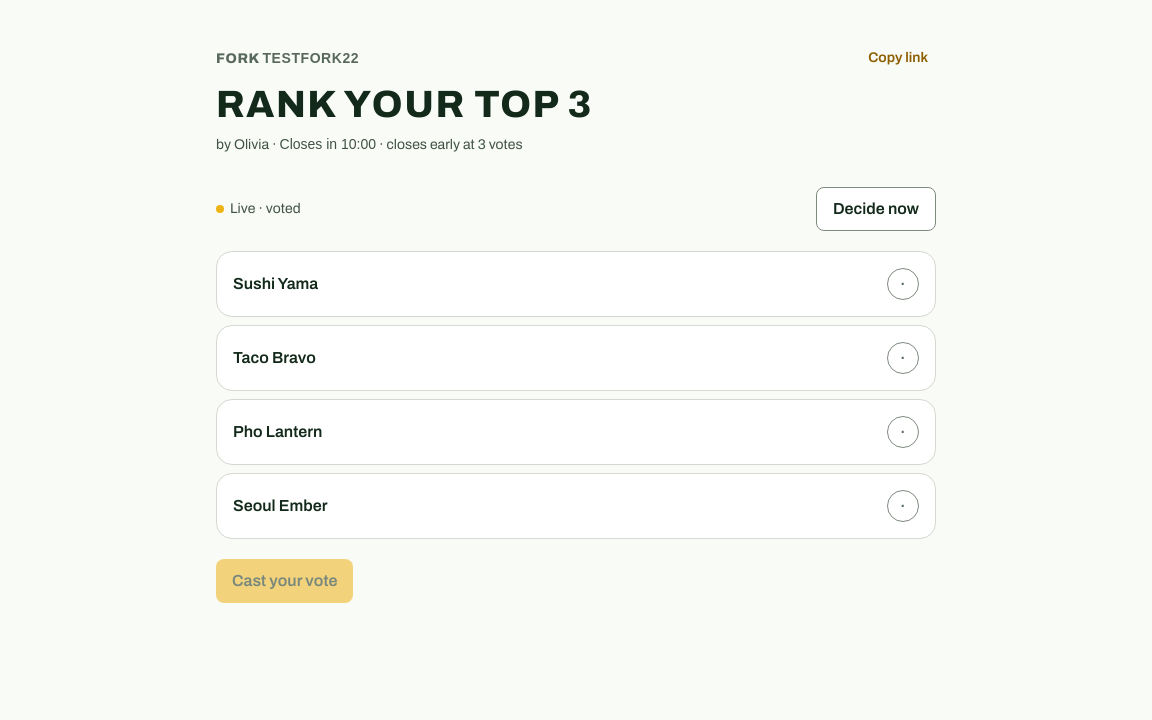
ForkRoom — decide now (organizer ends the vote early) › surfaces a failed decide inside the dialog and stays open
What coordinates should you click on to do the following:
click the button "Decide now"
I would click on:
 (876, 209)
Its box is [816, 187, 936, 231].
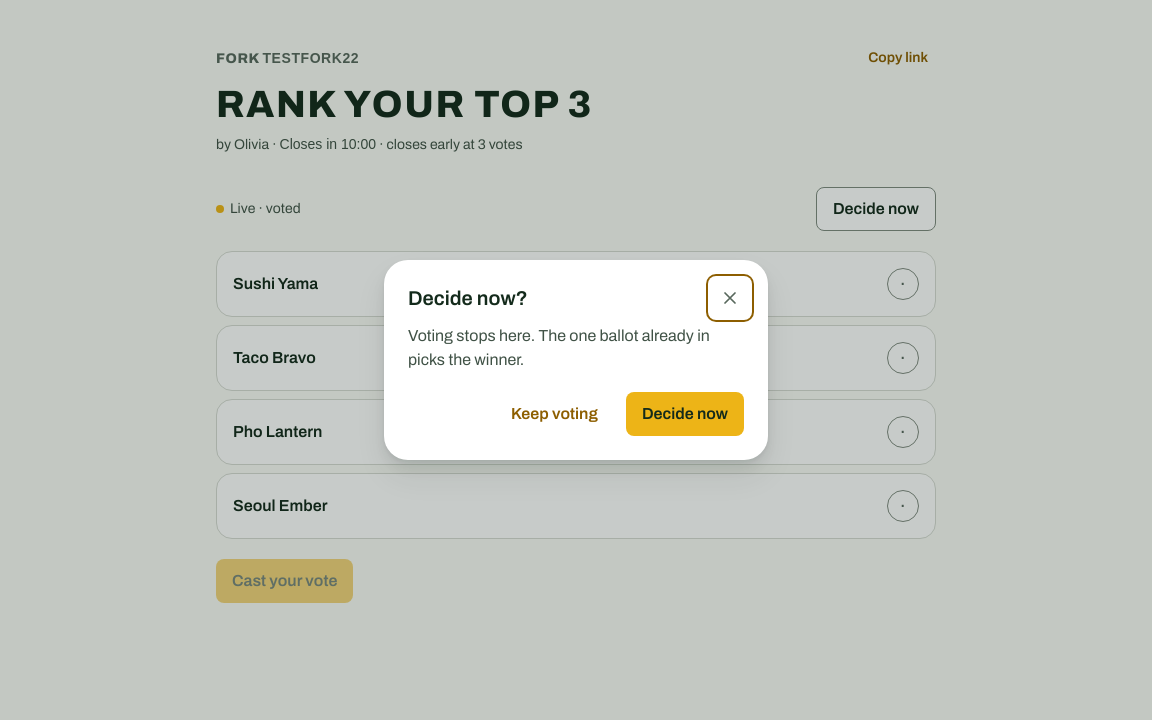
What coordinates should you click on to do the following:
click the button "Decide now"
I would click on:
 (685, 414)
Its box is [626, 392, 744, 436].
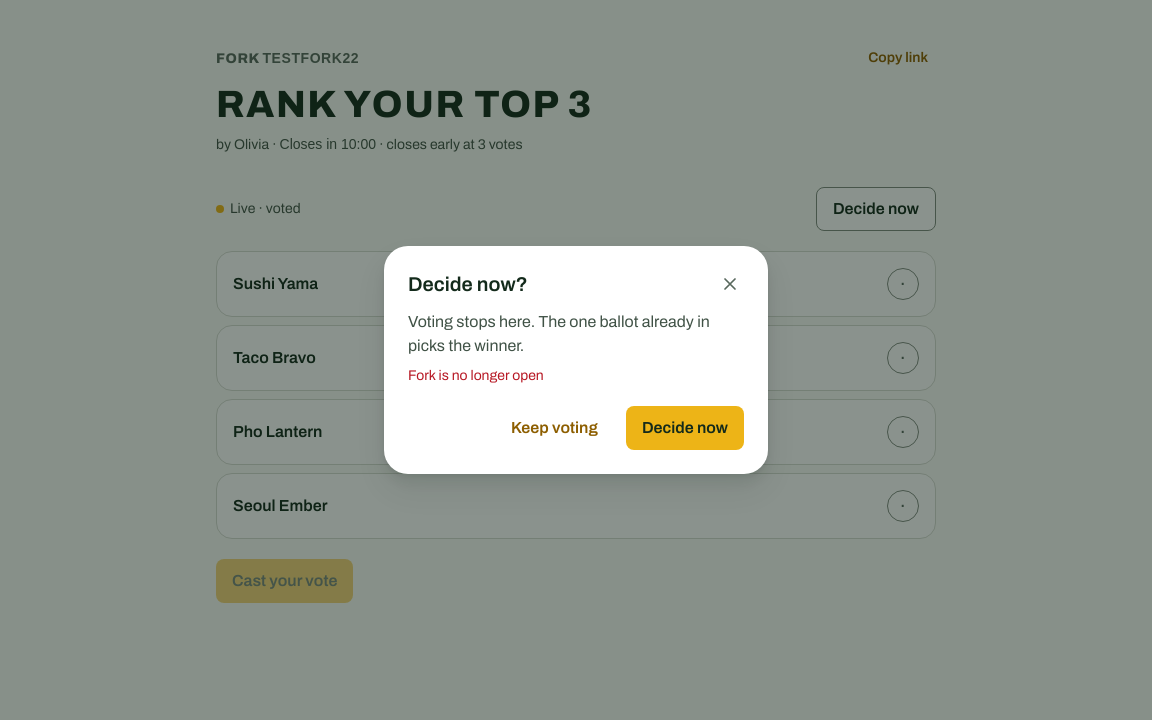
Check: the text "Fork is no longer open" is shown, box [408, 368, 544, 383]
